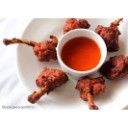chicken_lollipop: (29, 66, 68, 107), (1, 35, 58, 62), (75, 75, 107, 108), (97, 17, 126, 51), (105, 55, 128, 80), (61, 18, 92, 32)
